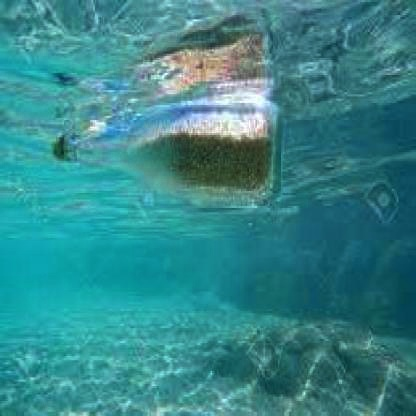gbottle: (51, 94, 283, 208)
